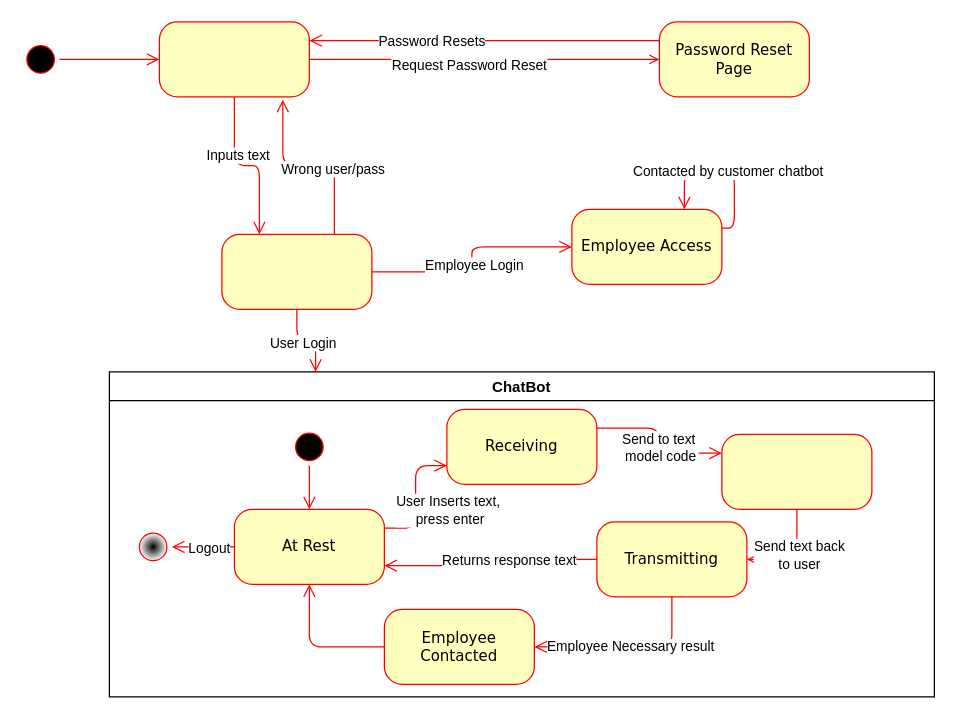
Some shapes in this 956 by 719 pixel diagram are drawn without their labels. Here are the shapes that lost their labels. From the top down, the centre of each, then its label:
At [233,59]: "Login".
At [296,271]: "Signing In".
At [796,471]: "Accessing Model".
